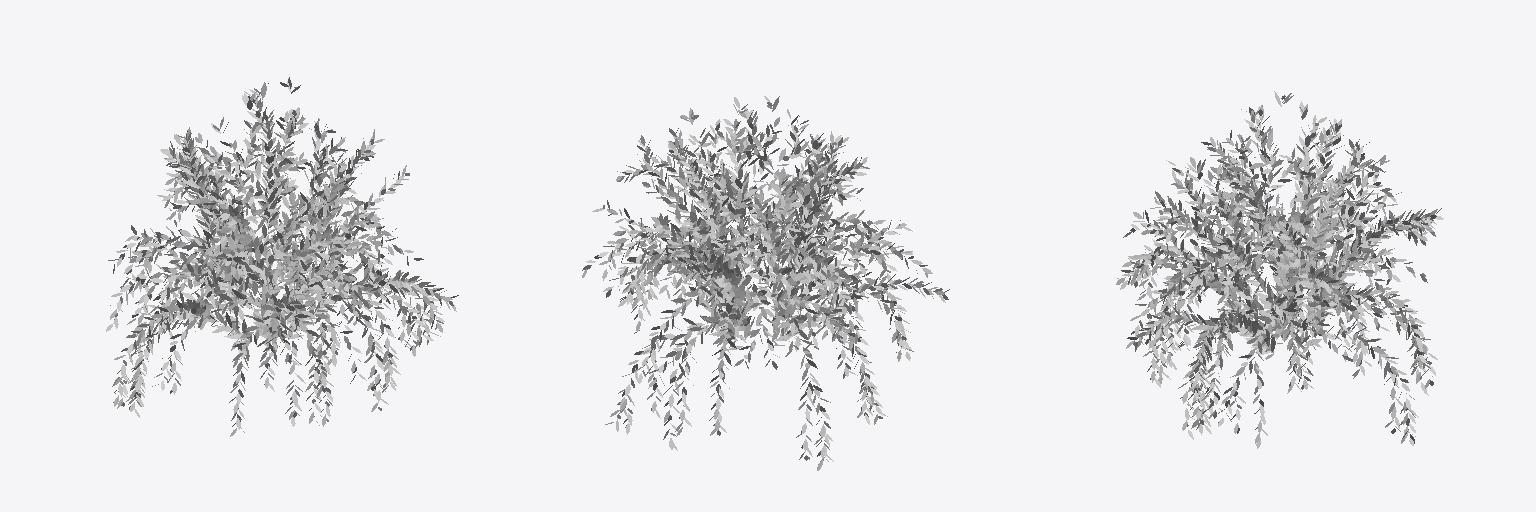
Rendered from tree4_leaves.obj.
3 views of the same model, side by side, from view 1: azimuth 30°, elevation 25°; view 2: azimuth 150°, elevation 25°; view 3: azimuth 270°, elevation 25° (orthographic).
Visible parts, largest first — view 1: leaves; view 2: leaves; view 3: leaves.
Boxes of the visible parts, x1,y1,x2,y2 form: leaves: [106, 77, 458, 436]; leaves: [582, 96, 949, 470]; leaves: [1116, 91, 1443, 448].
Size of the model in its own units: 3.12 by 3.1 by 2.85.